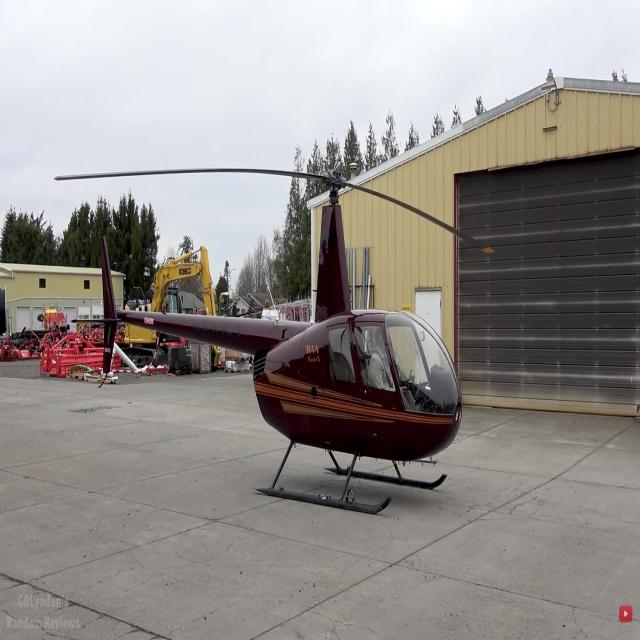CIV_HELO: (72, 171, 464, 516)
